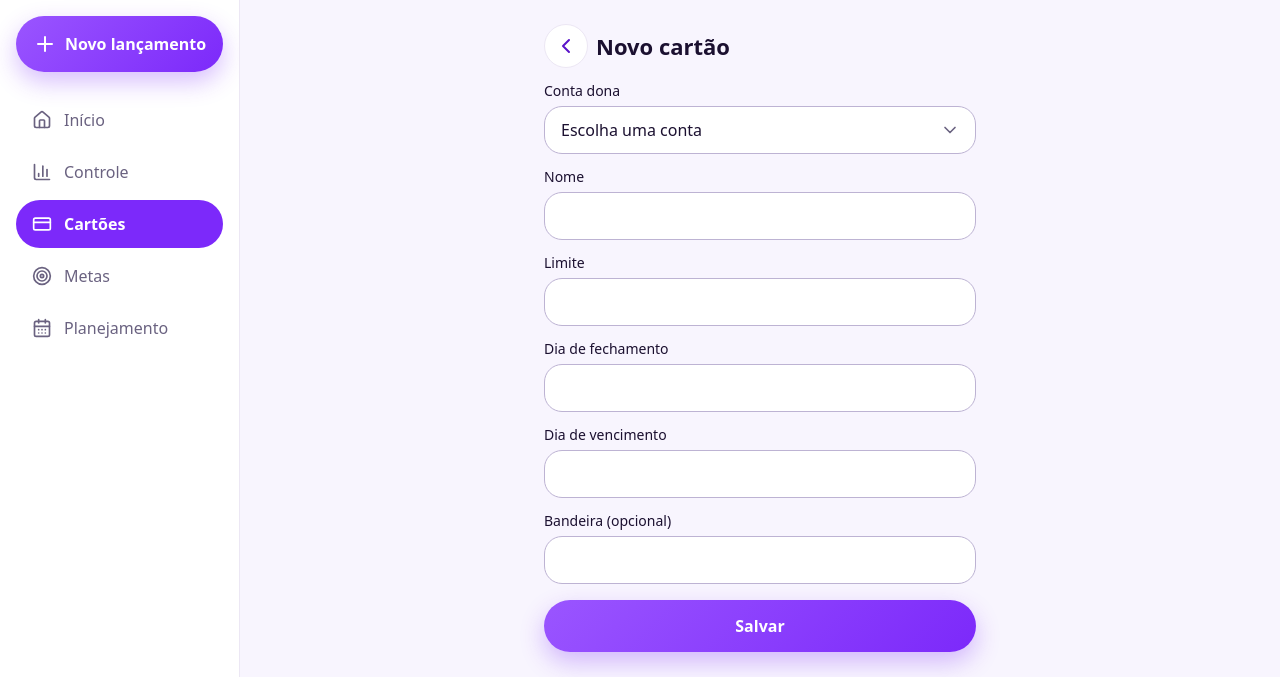
Scenario: cadastro de cartão (CA-4.01) › formulário vazio mostra os erros dos campos obrigatórios, não envia e foca o primeiro inválido
Expected: the heading "Novo cartão" is shown, x1=596 y1=31 x2=730 y2=61
Click the button "Salvar" at (760, 626), box x1=544 y1=600 x2=976 y2=652
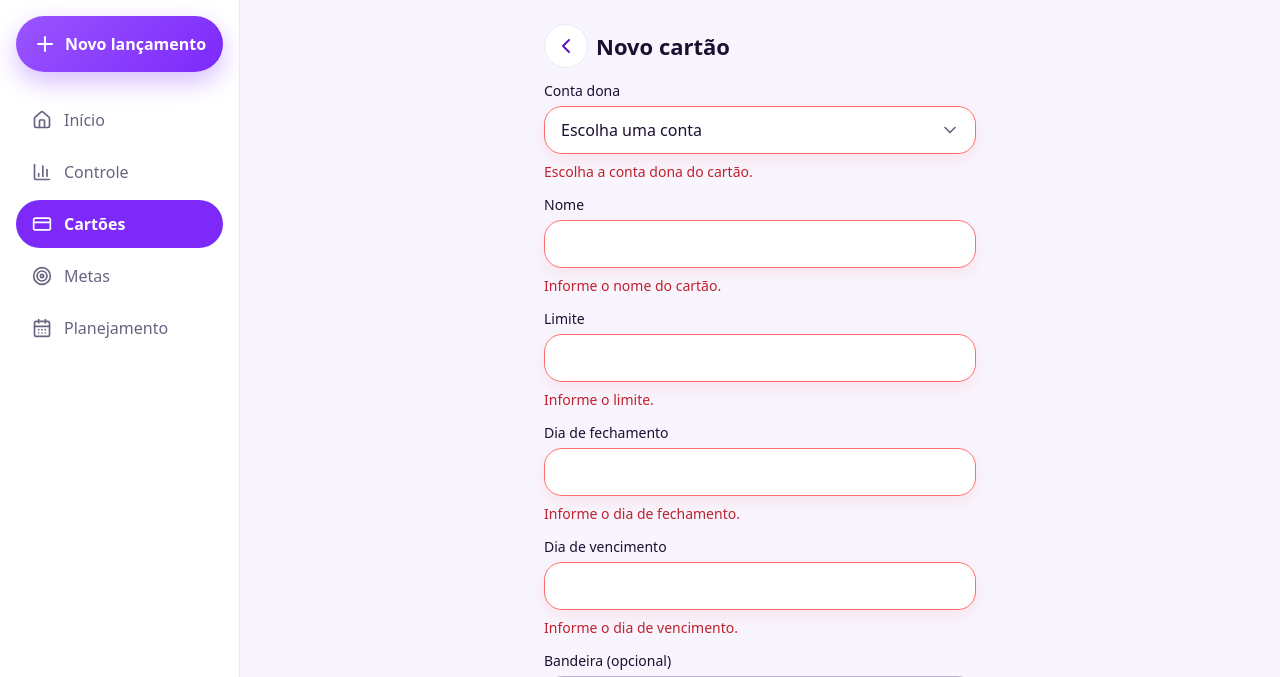
Result: the text "Escolha a conta dona do cartão." is shown at x1=544 y1=162 x2=753 y2=181
Result: the text "Informe o nome do cartão." is shown at x1=544 y1=276 x2=721 y2=295
Result: the text "Informe o limite." is shown at x1=544 y1=390 x2=654 y2=409
